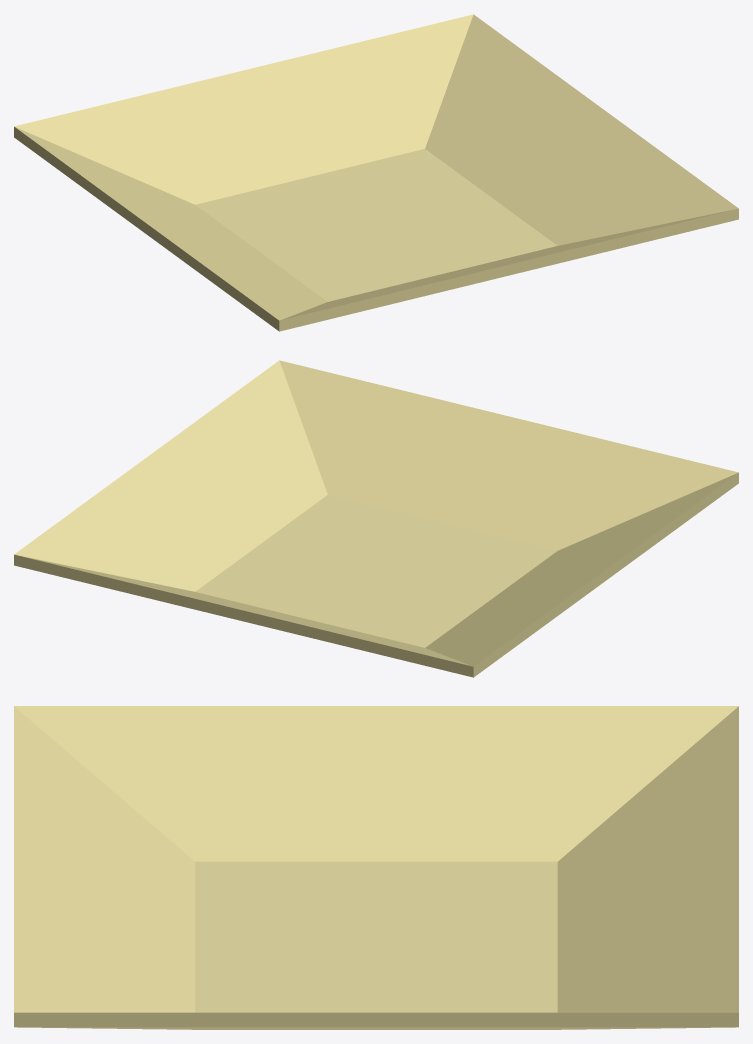
File: тарелка.fbx
The picture shows the model from 3 angles, top to bottom: view 1: azimuth 30°, elevation 25°; view 2: azimuth 150°, elevation 25°; view 3: azimuth 270°, elevation 25°; orthographic projection. The views are drawn at different scales.
Visible parts, largest first — view 1: Куб; view 2: Куб; view 3: Куб.
Part boxes in pixels (left/top/right/bottom): Куб: left=14, top=14, right=738, bottom=331; Куб: left=14, top=360, right=738, bottom=677; Куб: left=14, top=706, right=738, bottom=1029.
Bounding box in the file's own units: 42.55 × 6.08 × 42.55.
